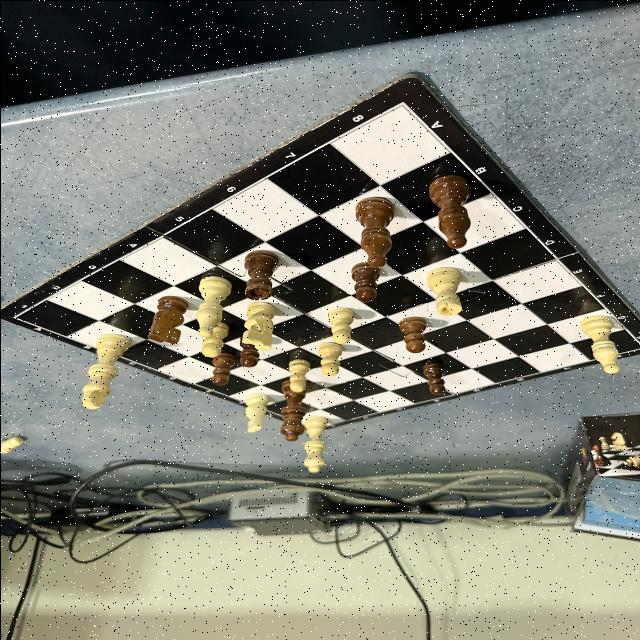Black-Bishop: (426, 175, 469, 248), (353, 196, 392, 266)
Black-Knight: (145, 296, 187, 342)
Black-Pawn: (350, 261, 380, 301), (398, 316, 426, 352), (211, 351, 236, 385), (422, 360, 446, 394), (238, 335, 260, 367)
Black-Queen: (279, 380, 307, 440)
Black-Rook: (244, 250, 276, 298)
White-Bishop: (580, 315, 620, 373), (196, 276, 232, 336)
White-King: (80, 334, 128, 408)
White-Knight: (240, 302, 274, 349), (245, 393, 267, 431)
White-Pawn: (327, 306, 354, 342), (202, 320, 228, 356), (317, 342, 341, 374), (287, 358, 309, 391), (0, 436, 22, 454)
White-Queen: (302, 416, 326, 472)
White-Rook: (426, 266, 460, 314)
